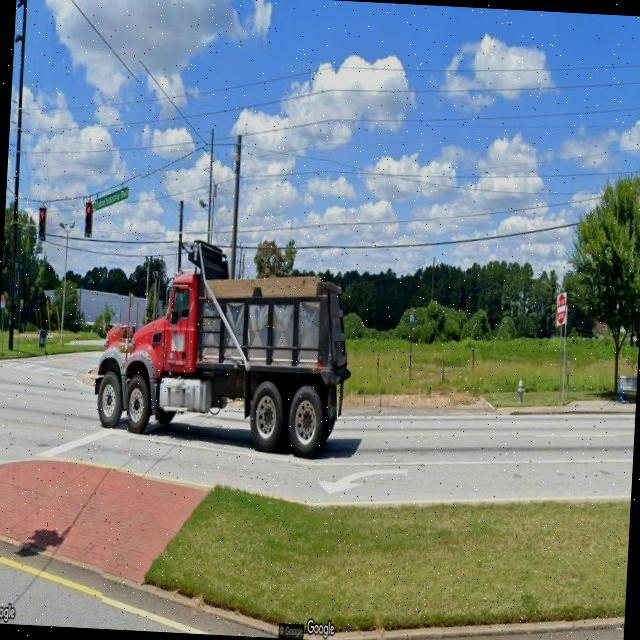seating: (616, 374, 638, 406)
